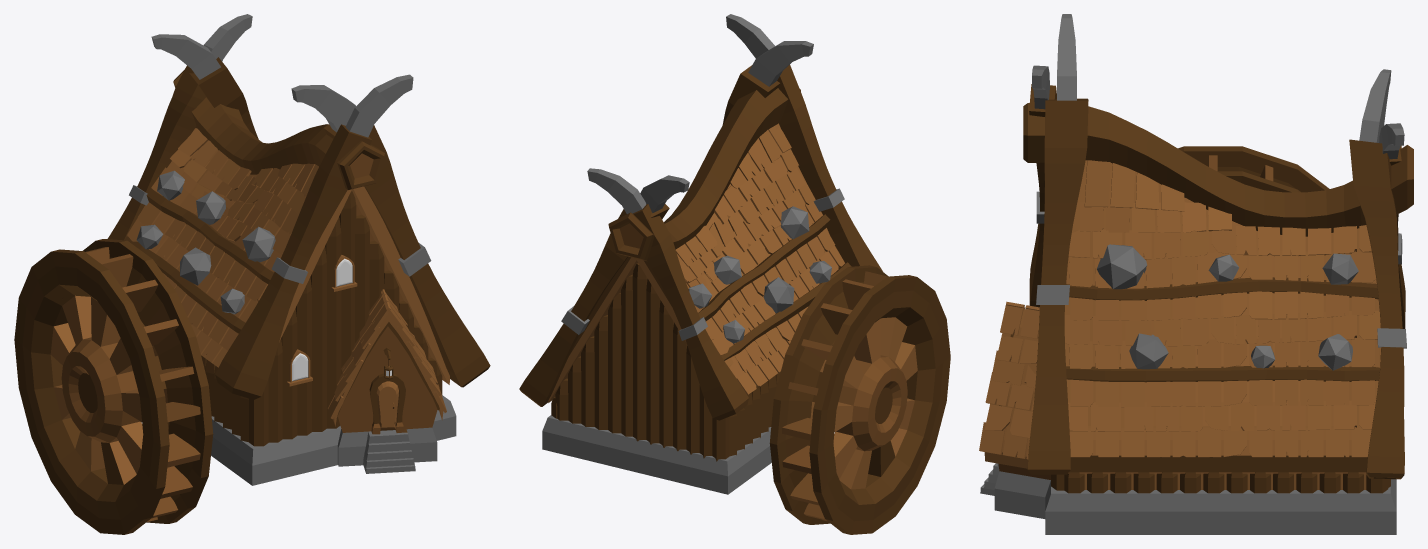
The model's file is B_MillBase.fbx.
3 views of the same model, side by side, from view 1: azimuth 30°, elevation 25°; view 2: azimuth 150°, elevation 25°; view 3: azimuth 270°, elevation 25° (orthographic). The views are drawn at different scales.
Visible parts, largest first — view 1: B_MillBase, B_MillBaseMill; view 2: B_MillBase, B_MillBaseMill; view 3: B_MillBase, B_MillBaseMill.
Boxes of the visible parts, x1,y1,x2,y2 form: B_MillBase: (107, 14, 490, 485); B_MillBaseMill: (14, 239, 213, 534); B_MillBase: (519, 14, 882, 494); B_MillBaseMill: (769, 265, 950, 534); B_MillBase: (979, 14, 1413, 534); B_MillBaseMill: (1178, 146, 1329, 192).
Size of the model in its own units: 801 by 1044 by 800.
